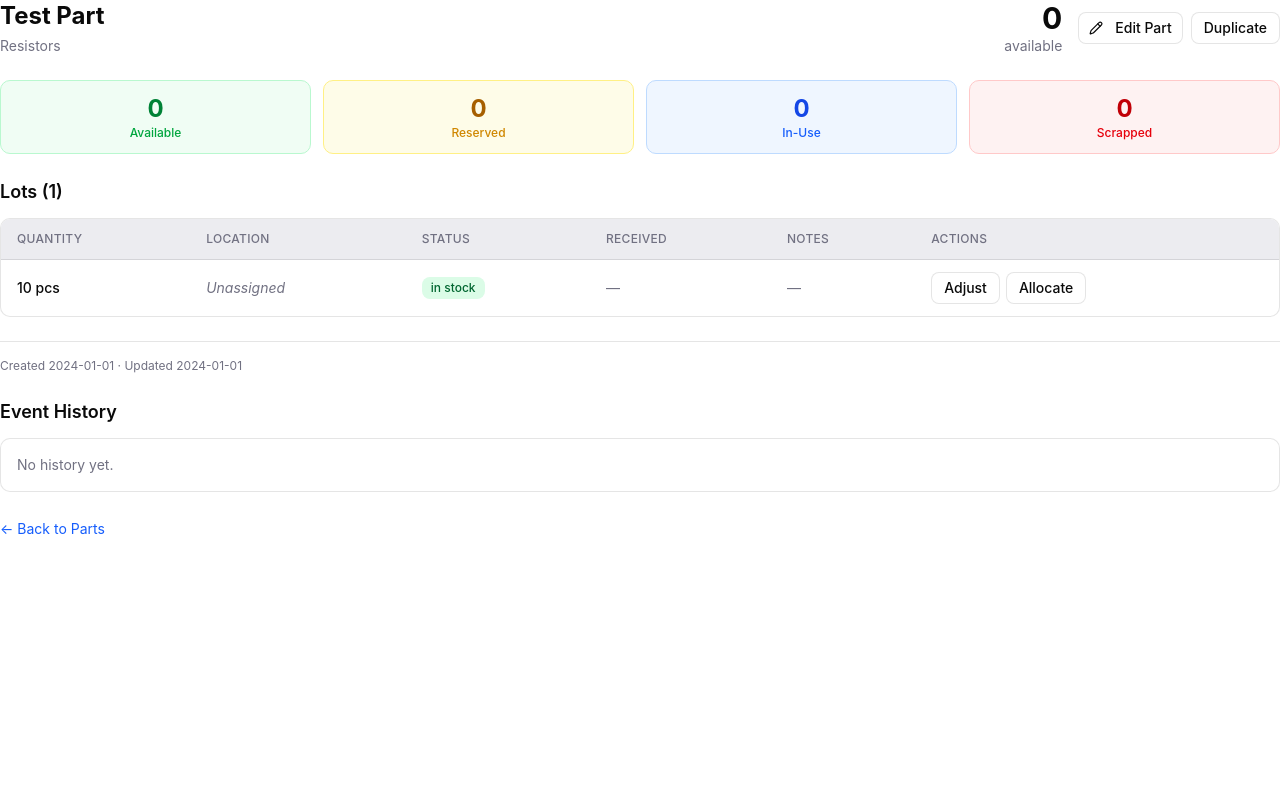
it: PartDetailClient — AdjustLotDialog behavior › opens the dialog when Adjust is clicked
This screenshot has width=1280, height=800.
Click the button "Adjust" at (966, 288), box [931, 272, 1000, 304]
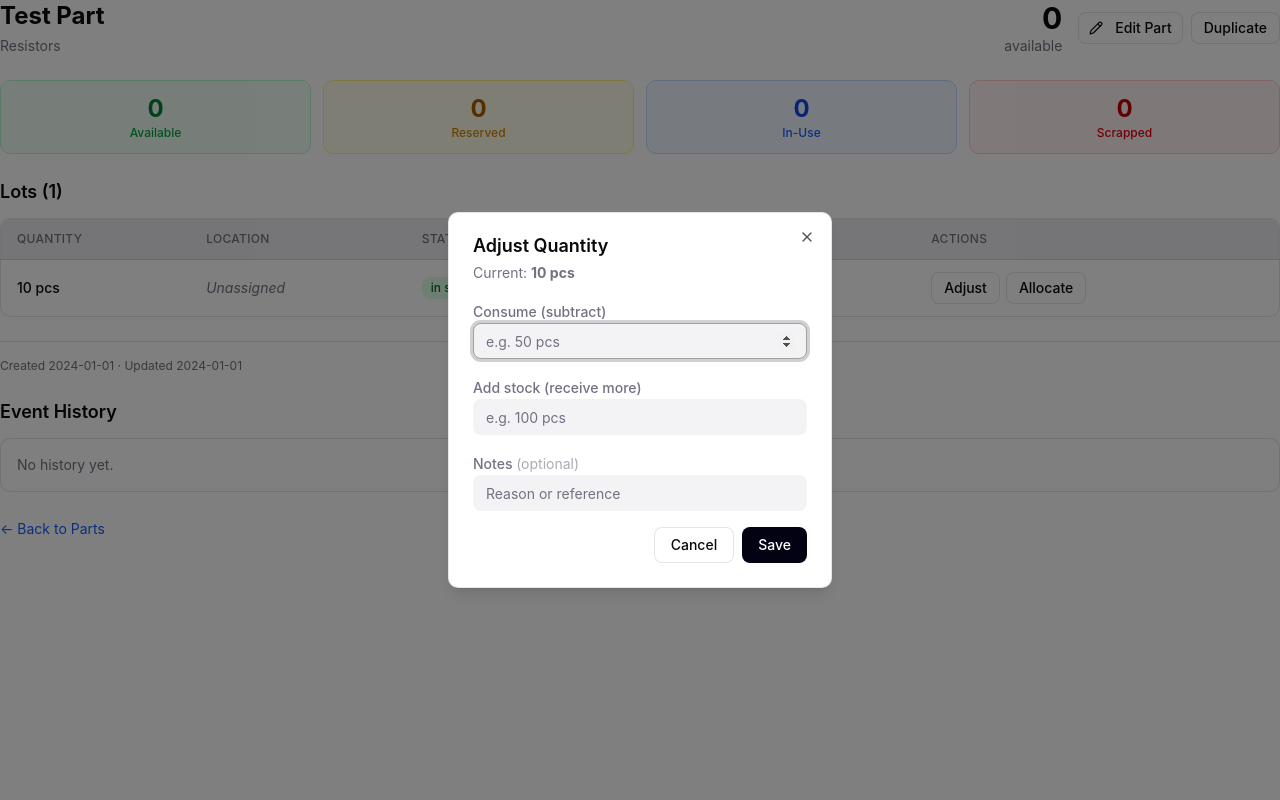
Result: the dialog is shown at [448, 212, 832, 588]
Result: the heading "Adjust Quantity" is shown at [473, 235, 608, 256]
